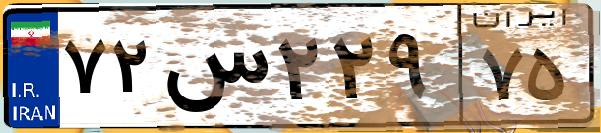2: (270, 28, 330, 110), (330, 28, 385, 110), (110, 28, 158, 98)
5: (525, 38, 570, 115)
7: (57, 26, 110, 100), (475, 38, 525, 113)
9: (385, 28, 445, 110)
س: (158, 20, 270, 120)
